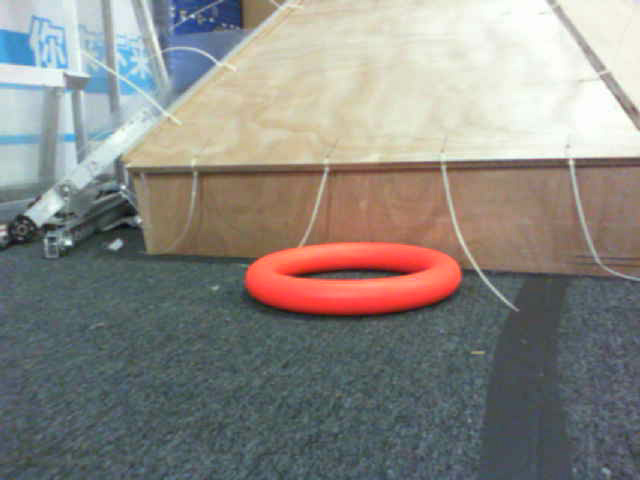Note: (253, 243, 466, 325)
